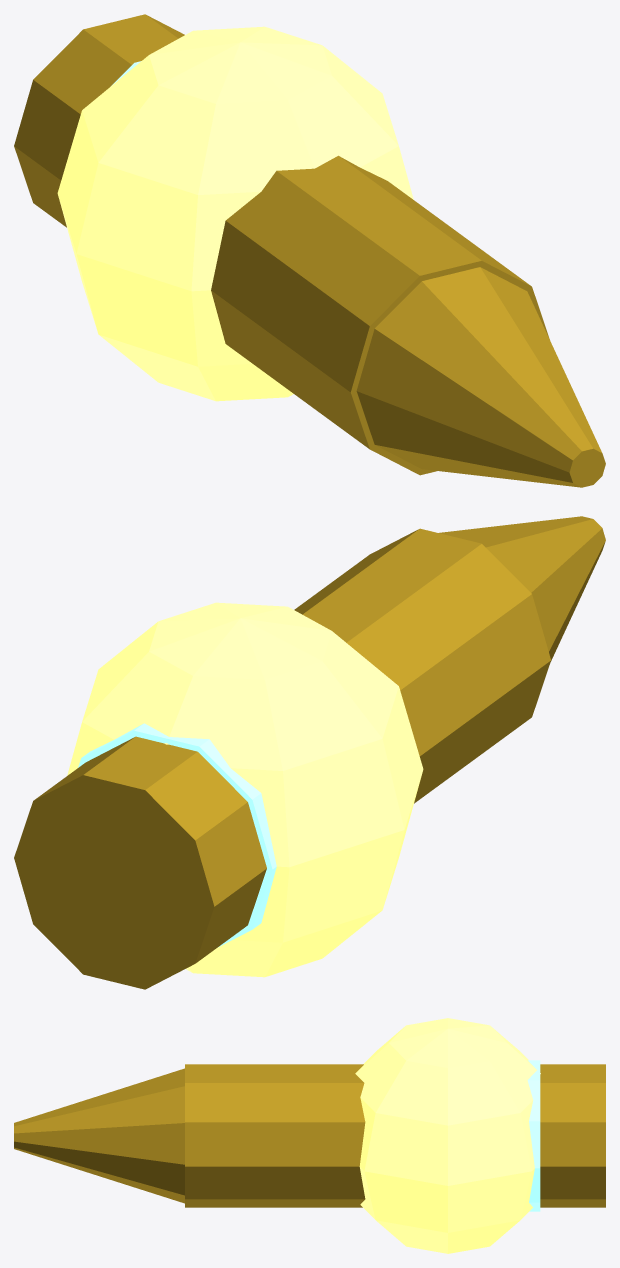
Rendered from arena_proj_shell.glb.
The picture shows the model from 3 angles, top to bottom: view 1: azimuth 30°, elevation 25°; view 2: azimuth 150°, elevation 25°; view 3: azimuth 270°, elevation 25°; orthographic projection. The views are drawn at different scales.
Parts seen in each view (by area): view 1: body, glow; view 2: body, glow, band; view 3: body, glow, band.
Part boxes in pixels (x1,y1,x2,y2): body: (14, 14, 605, 487); glow: (57, 26, 413, 401); body: (14, 516, 605, 989); glow: (67, 602, 423, 977); band: (78, 723, 276, 947); body: (14, 1064, 605, 1207); glow: (355, 1018, 540, 1253); band: (527, 1060, 540, 1211).
Bounding box in the file's own units: 1.8 × 1.8 × 4.5.
